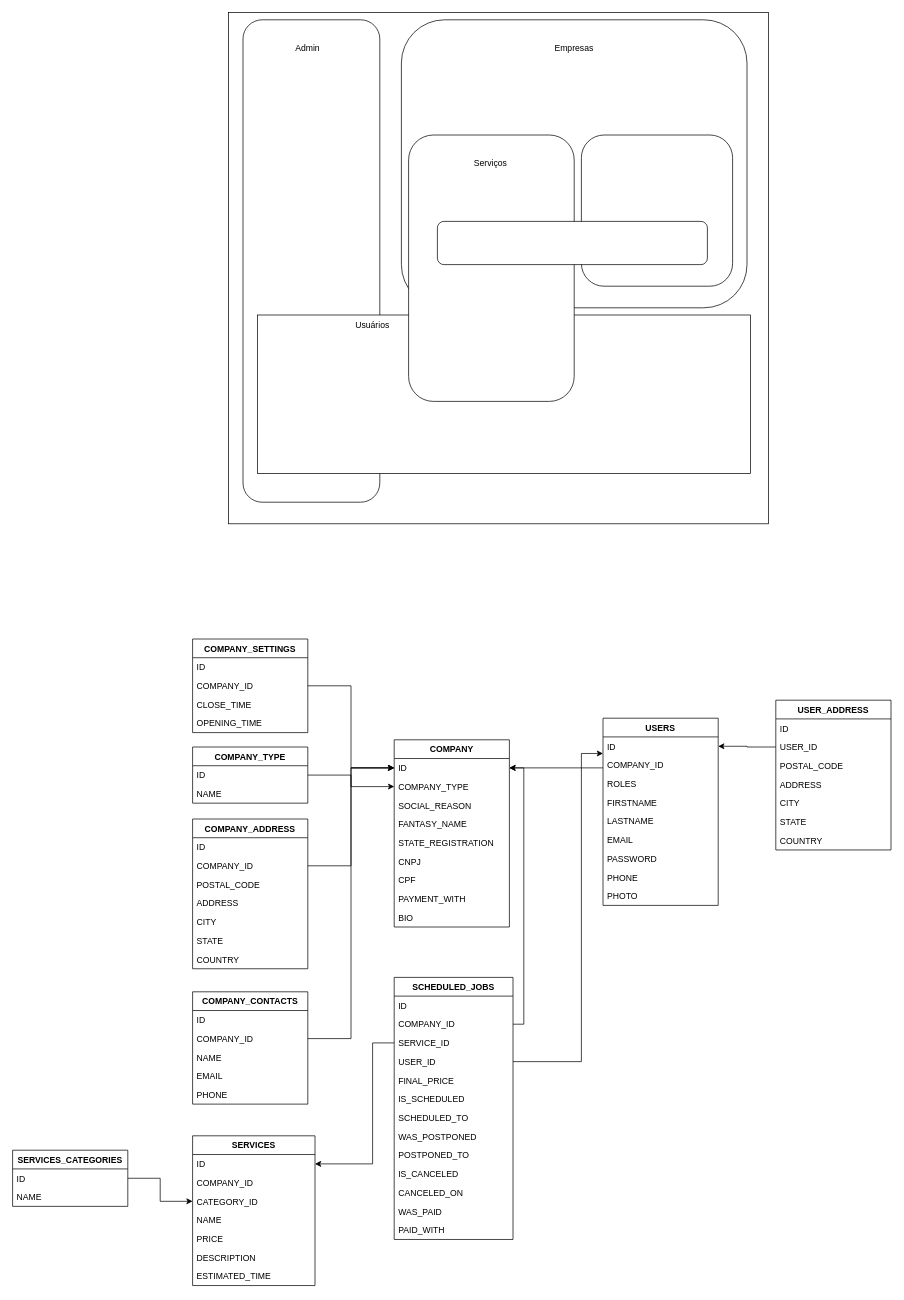
This 904x1300 diagram has some shape labels left out. The shapes that lost their labels are listed below. From the top down, each one's centre as x and y in pixels, then its label:
point (657, 210): Funcionários
point (572, 243): Produtos
